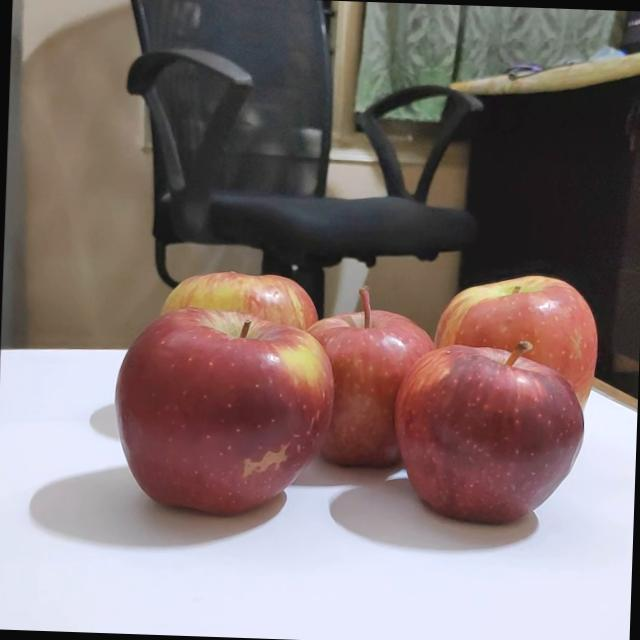apple: (106, 302, 342, 521), (395, 335, 596, 525), (296, 282, 454, 474), (428, 268, 604, 429), (148, 264, 324, 395)
